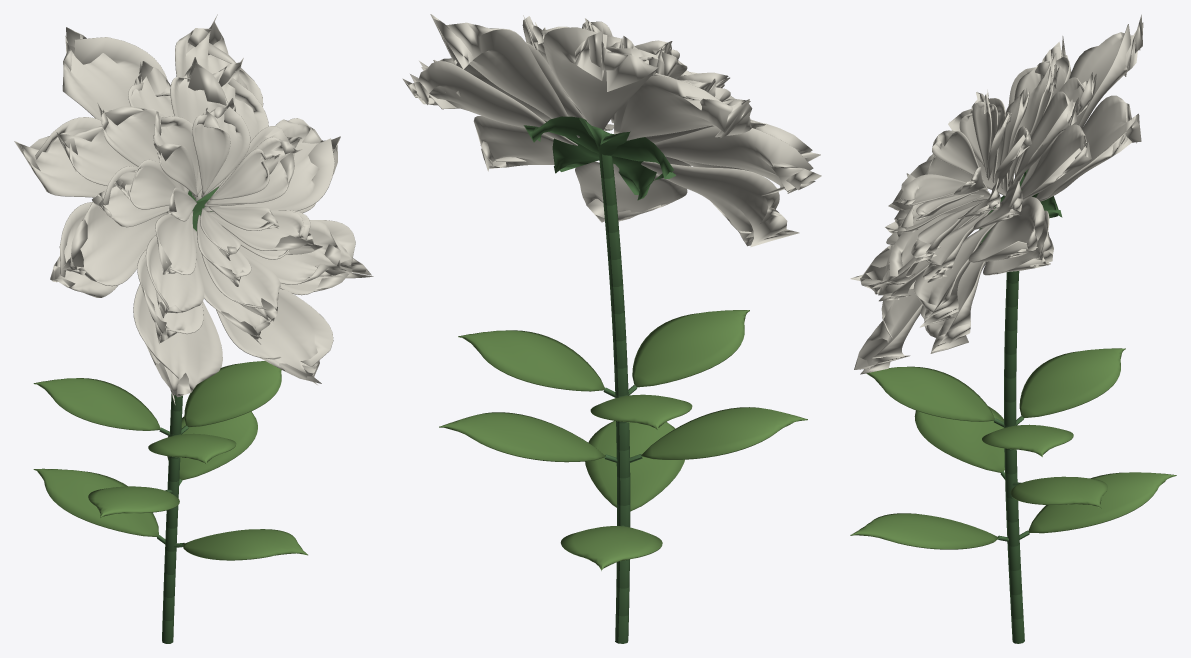
Rendered from gardenia-legendary-v2.glb.
The picture shows the model from 3 angles, left to right: view 1: azimuth 30°, elevation 25°; view 2: azimuth 150°, elevation 25°; view 3: azimuth 270°, elevation 25°; orthographic projection. The views are drawn at different scales.
Visible parts, largest first — view 1: gardenia-legendary-v2-petal, gardenia-legendary-v2-leaf, gardenia-legendary-v2-stem; view 2: gardenia-legendary-v2-petal, gardenia-legendary-v2-leaf, gardenia-legendary-v2-stem; view 3: gardenia-legendary-v2-petal, gardenia-legendary-v2-leaf, gardenia-legendary-v2-stem.
Part boxes in pixels (x1,y1,x2,y2): gardenia-legendary-v2-petal: (14, 14, 373, 404); gardenia-legendary-v2-leaf: (33, 361, 307, 560); gardenia-legendary-v2-stem: (157, 187, 218, 643); gardenia-legendary-v2-petal: (402, 14, 821, 247); gardenia-legendary-v2-leaf: (439, 310, 807, 570); gardenia-legendary-v2-stem: (523, 116, 675, 643); gardenia-legendary-v2-petal: (850, 14, 1143, 374); gardenia-legendary-v2-leaf: (850, 348, 1176, 549); gardenia-legendary-v2-stem: (979, 169, 1062, 643).
Size of the model in its own units: 1.14 by 1.95 by 0.9508.
